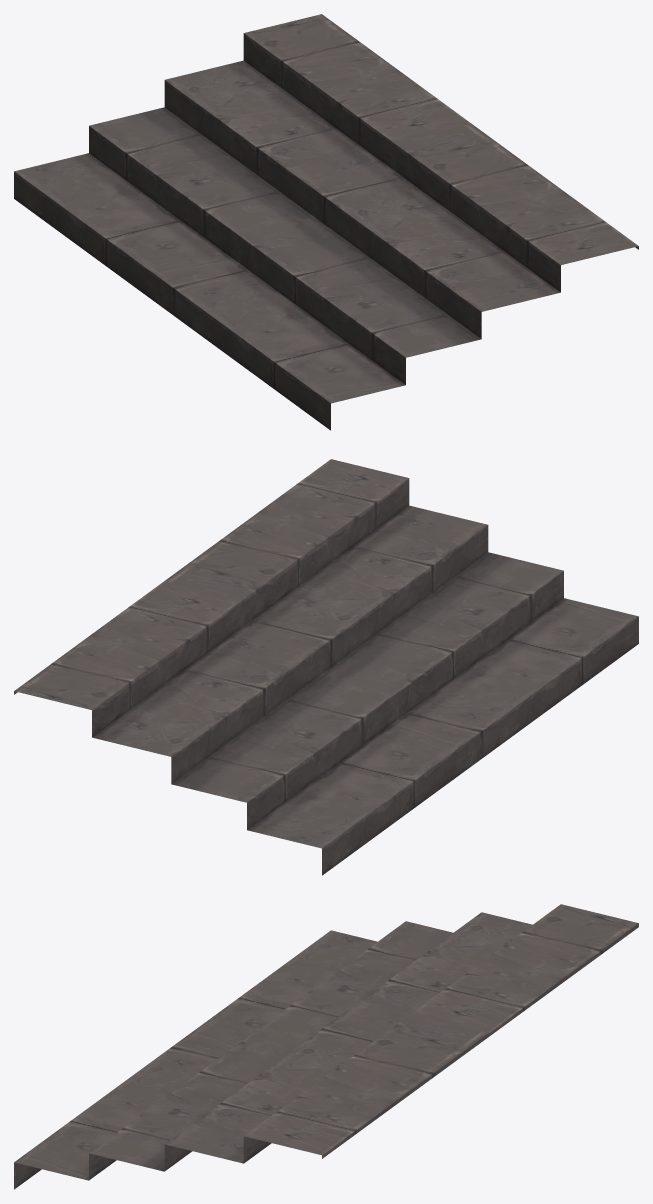
Rendered from sn_shengdi_titl_001.FBX.
The picture shows the model from 3 angles, top to bottom: view 1: azimuth 30°, elevation 25°; view 2: azimuth 150°, elevation 25°; view 3: azimuth 330°, elevation 25°; orthographic projection.
Visible parts, largest first — view 1: sn_shengdi_titl_001; view 2: sn_shengdi_titl_001; view 3: sn_shengdi_titl_001.
Part boxes in pixels (left/top/right/bottom): sn_shengdi_titl_001: left=14, top=14, right=638, bottom=430; sn_shengdi_titl_001: left=14, top=459, right=638, bottom=875; sn_shengdi_titl_001: left=14, top=904, right=638, bottom=1189.
Size of the model in its own units: 491 by 876 by 167.
